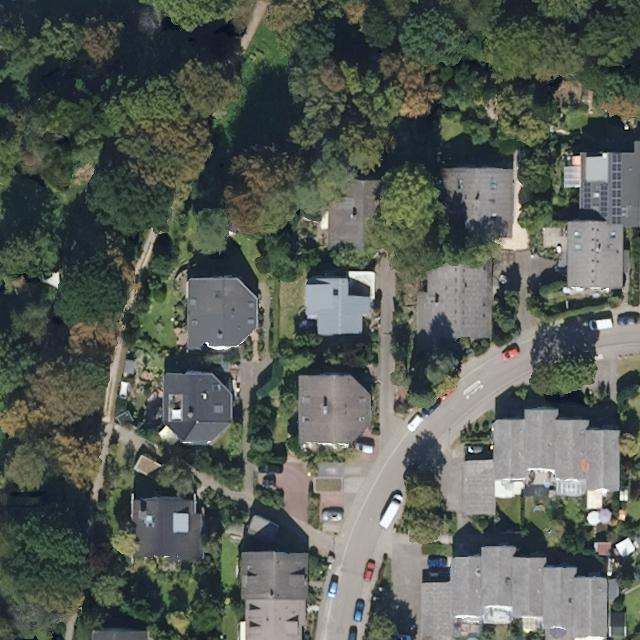PV: (577, 178, 613, 222), (609, 151, 623, 227)
